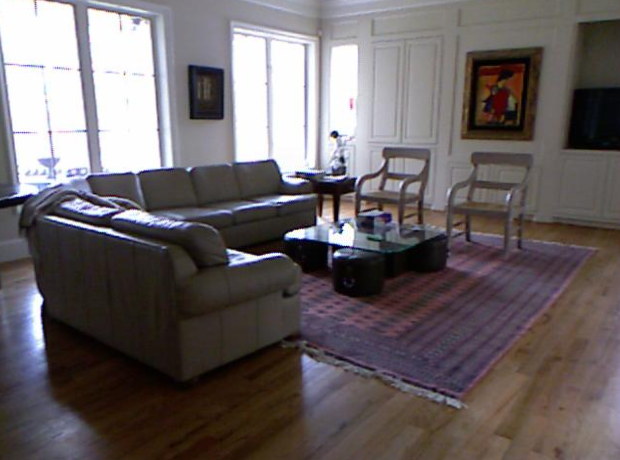chair: (447, 152, 534, 259), (356, 146, 430, 210)
couch: (45, 256, 292, 332), (168, 162, 280, 237)
window: (8, 4, 84, 170), (99, 12, 152, 159), (272, 41, 309, 158), (238, 33, 267, 160)
